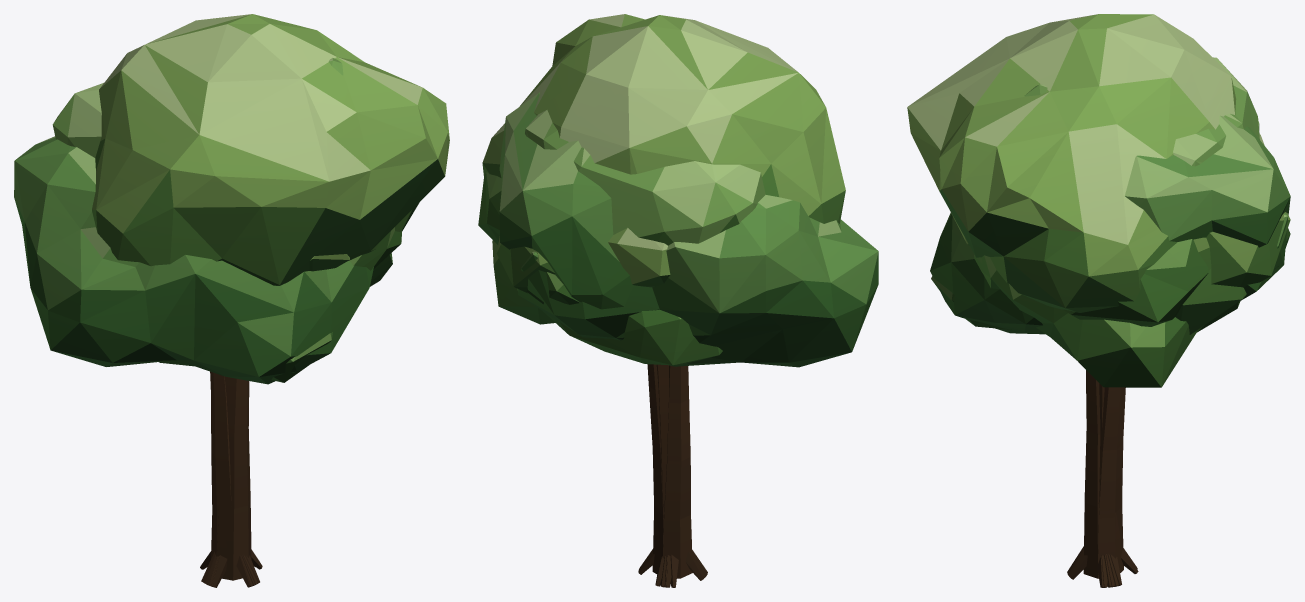
Rendered from tree.fbx.
3 views of the same model, side by side, from view 1: azimuth 30°, elevation 25°; view 2: azimuth 150°, elevation 25°; view 3: azimuth 270°, elevation 25° (orthographic). The views are drawn at different scales.
Visible parts, largest first — view 1: tree_4, tree_2, tree_3, tree_0, tree_1; view 2: tree_4, tree_2, tree_5, tree_3, tree_0, tree_1; view 3: tree_4, tree_5, tree_0, tree_3, tree_2, tree_1.
Boxes of the visible parts, x1,y1,x2,y2 form: tree_4: [92, 14, 449, 585]; tree_2: [14, 136, 373, 585]; tree_3: [52, 58, 343, 586]; tree_0: [159, 227, 402, 587]; tree_1: [211, 254, 349, 587]; tree_4: [482, 14, 845, 587]; tree_2: [518, 195, 878, 587]; tree_5: [499, 92, 704, 586]; tree_3: [478, 110, 765, 587]; tree_0: [492, 240, 722, 587]; tree_1: [517, 228, 707, 587]; tree_4: [907, 14, 1290, 587]; tree_5: [1067, 115, 1290, 587]; tree_0: [931, 255, 1240, 587]; tree_3: [1024, 57, 1290, 587]; tree_2: [930, 121, 1287, 586]; tree_1: [951, 134, 1264, 586].
Bounding box in the file's own units: 6.17 × 8.71 × 5.43.
